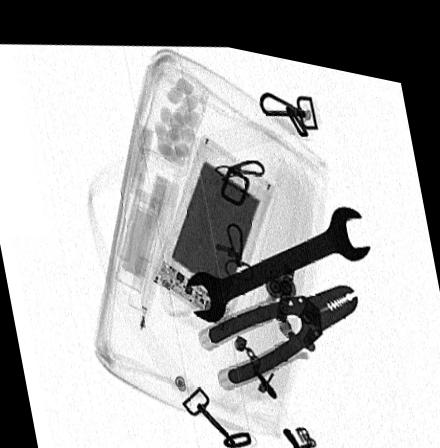Pliers: (206, 268, 359, 373)
Powerbank: (151, 124, 277, 318)
Wrench: (185, 191, 370, 313)
